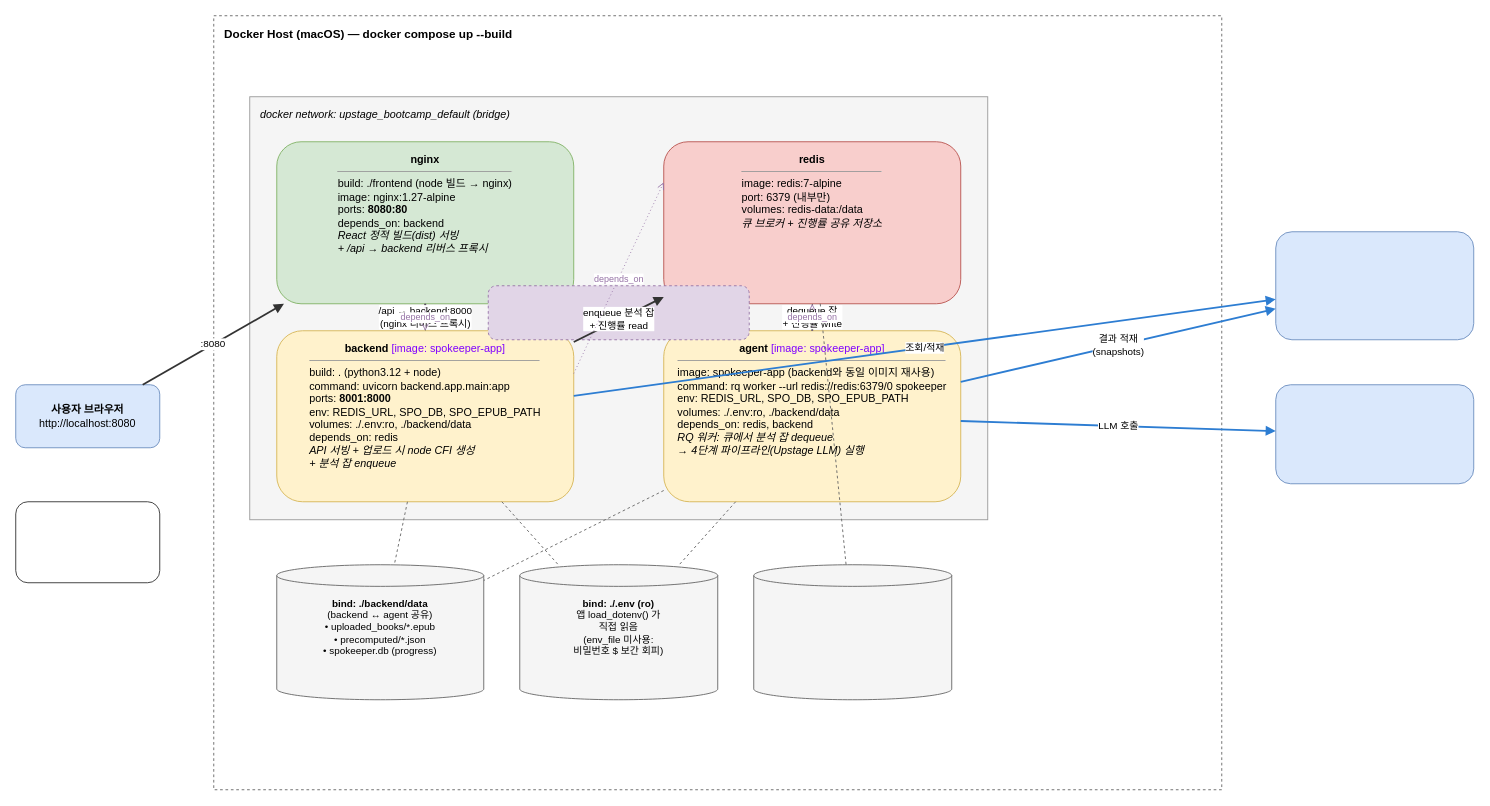
Some shapes in this 1490 by 806 pixel diagram are drawn without their labels. Each missing label, with the box of its shape:
named volume: redis-data redis 영속(dump.rdb): (753, 564, 952, 700)
spokeeper-app 단일 이미지를 backend·agent가 공유 (command 만 uvicorn ↔ rq worker 로 교체): (487, 285, 749, 340)
Supabase (원격 Postgres) • books / book_cfi_index • build_agent_snapshots: (1275, 231, 1474, 340)
Upstage LLM API (외부 API) 분석 파이프라인 호출: (1275, 384, 1474, 484)
범례 ━━ 런타임 트래픽 - - 볼륨 마운트 ····· depends_on: (15, 501, 160, 583)
